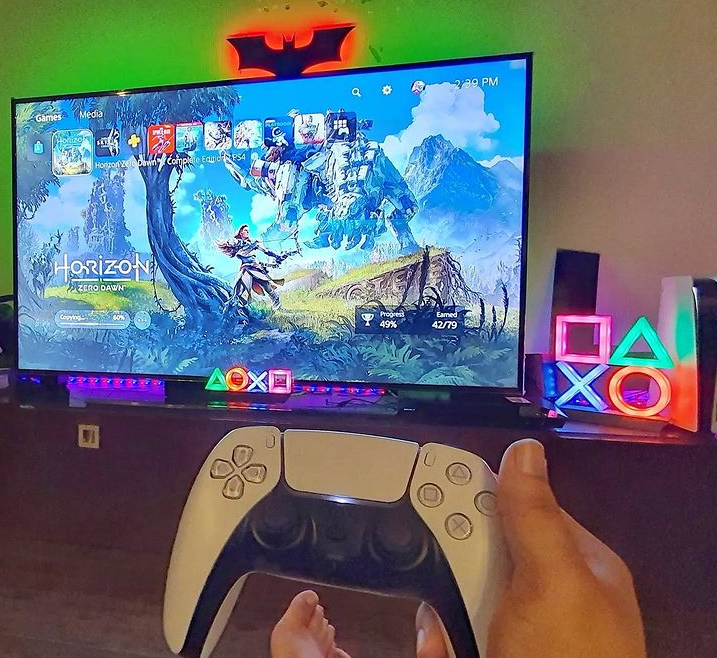gamingconsole: (169, 428, 512, 654)
